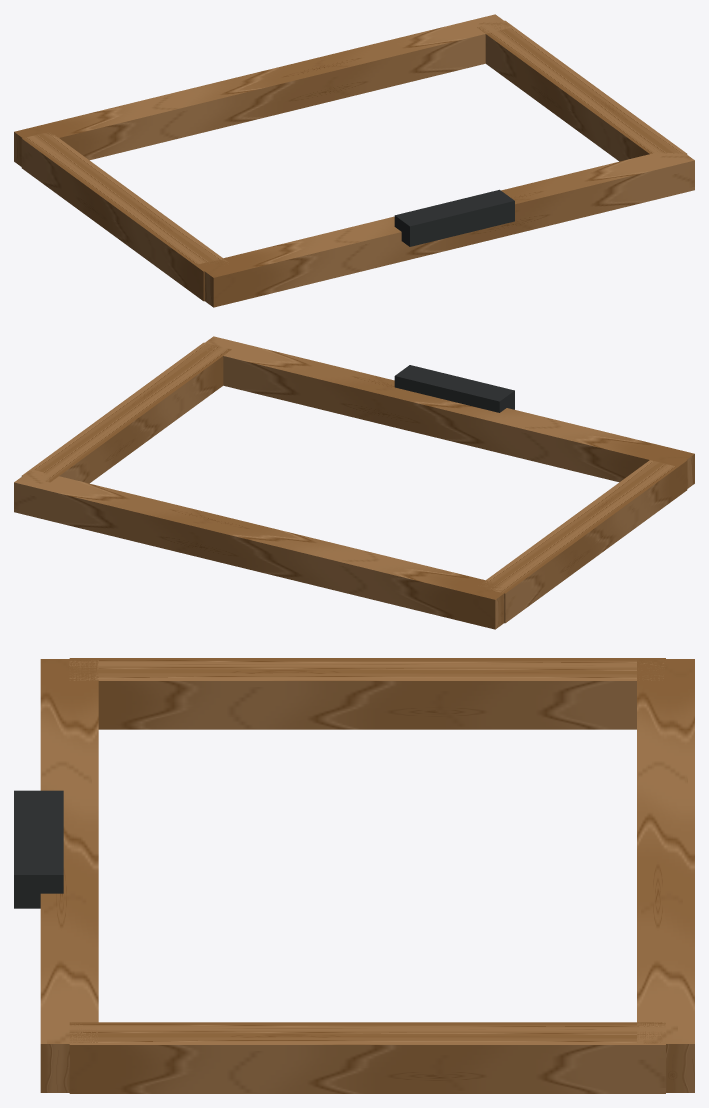
The model's file is IncubatorLidFrame.fbx.
3 renders of one model, top to bottom at view 1: azimuth 30°, elevation 25°; view 2: azimuth 150°, elevation 25°; view 3: azimuth 270°, elevation 25°, orthographic. The views are drawn at different scales.
Parts seen in each view (by area): view 1: IncubatorLidFrame; view 2: IncubatorLidFrame; view 3: IncubatorLidFrame.
Boxes of the visible parts, x1=… form: IncubatorLidFrame: x1=14, y1=14, x2=694, y2=307; IncubatorLidFrame: x1=14, y1=336, x2=694, y2=629; IncubatorLidFrame: x1=14, y1=658, x2=694, y2=1093.
Bounding box in the file's own units: 111 × 9 × 82.2.
